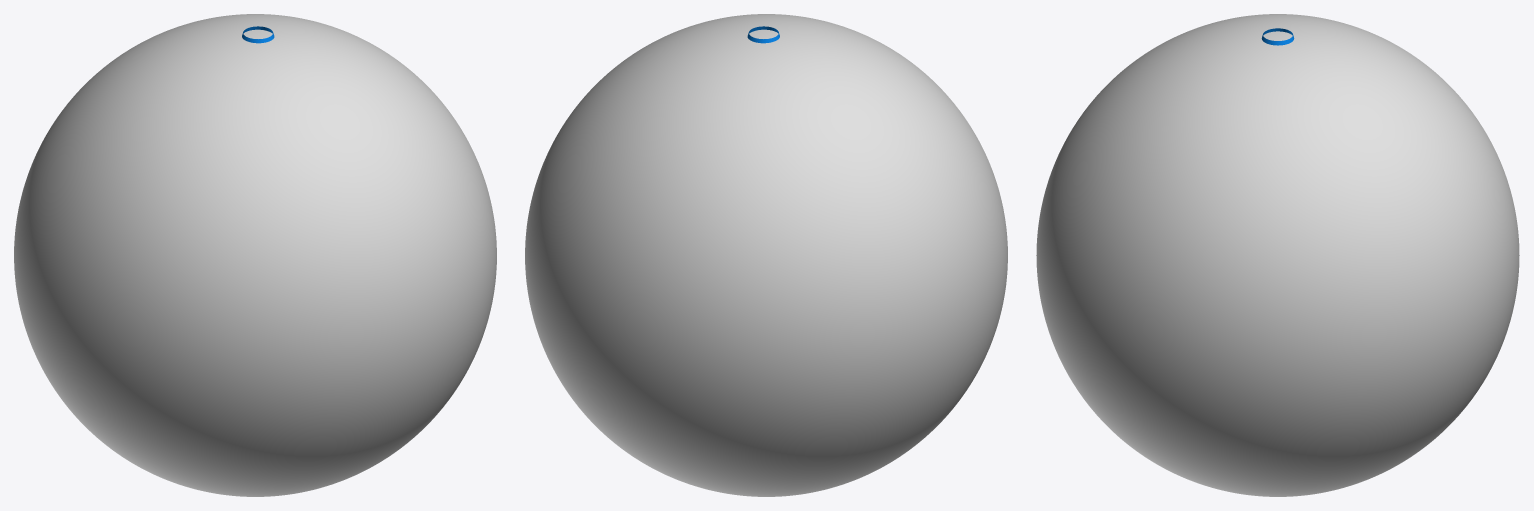
The model's file is Skybox and sea 1.fbx.
The picture shows the model from 3 angles, left to right: view 1: azimuth 30°, elevation 25°; view 2: azimuth 150°, elevation 25°; view 3: azimuth 270°, elevation 25°; orthographic projection.
Visible parts, largest first — view 1: Sphere; view 2: Sphere; view 3: Sphere.
Part boxes in pixels (x1,y1,x2,y2): Sphere: (14,14,496,496); Sphere: (525,14,1007,496); Sphere: (1036,14,1519,496).
Size of the model in its own units: 119066 by 119926 by 119066.
Materials: 1 (1 with a texture image).
